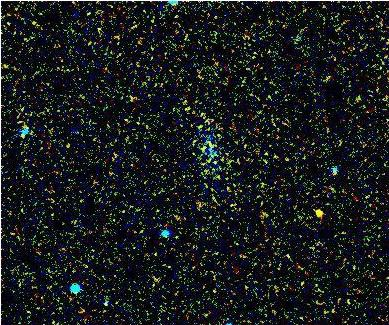star: (303, 197, 333, 227)
